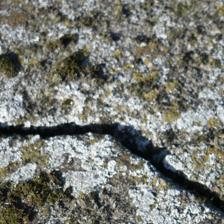Crack: (2, 60, 216, 155)
